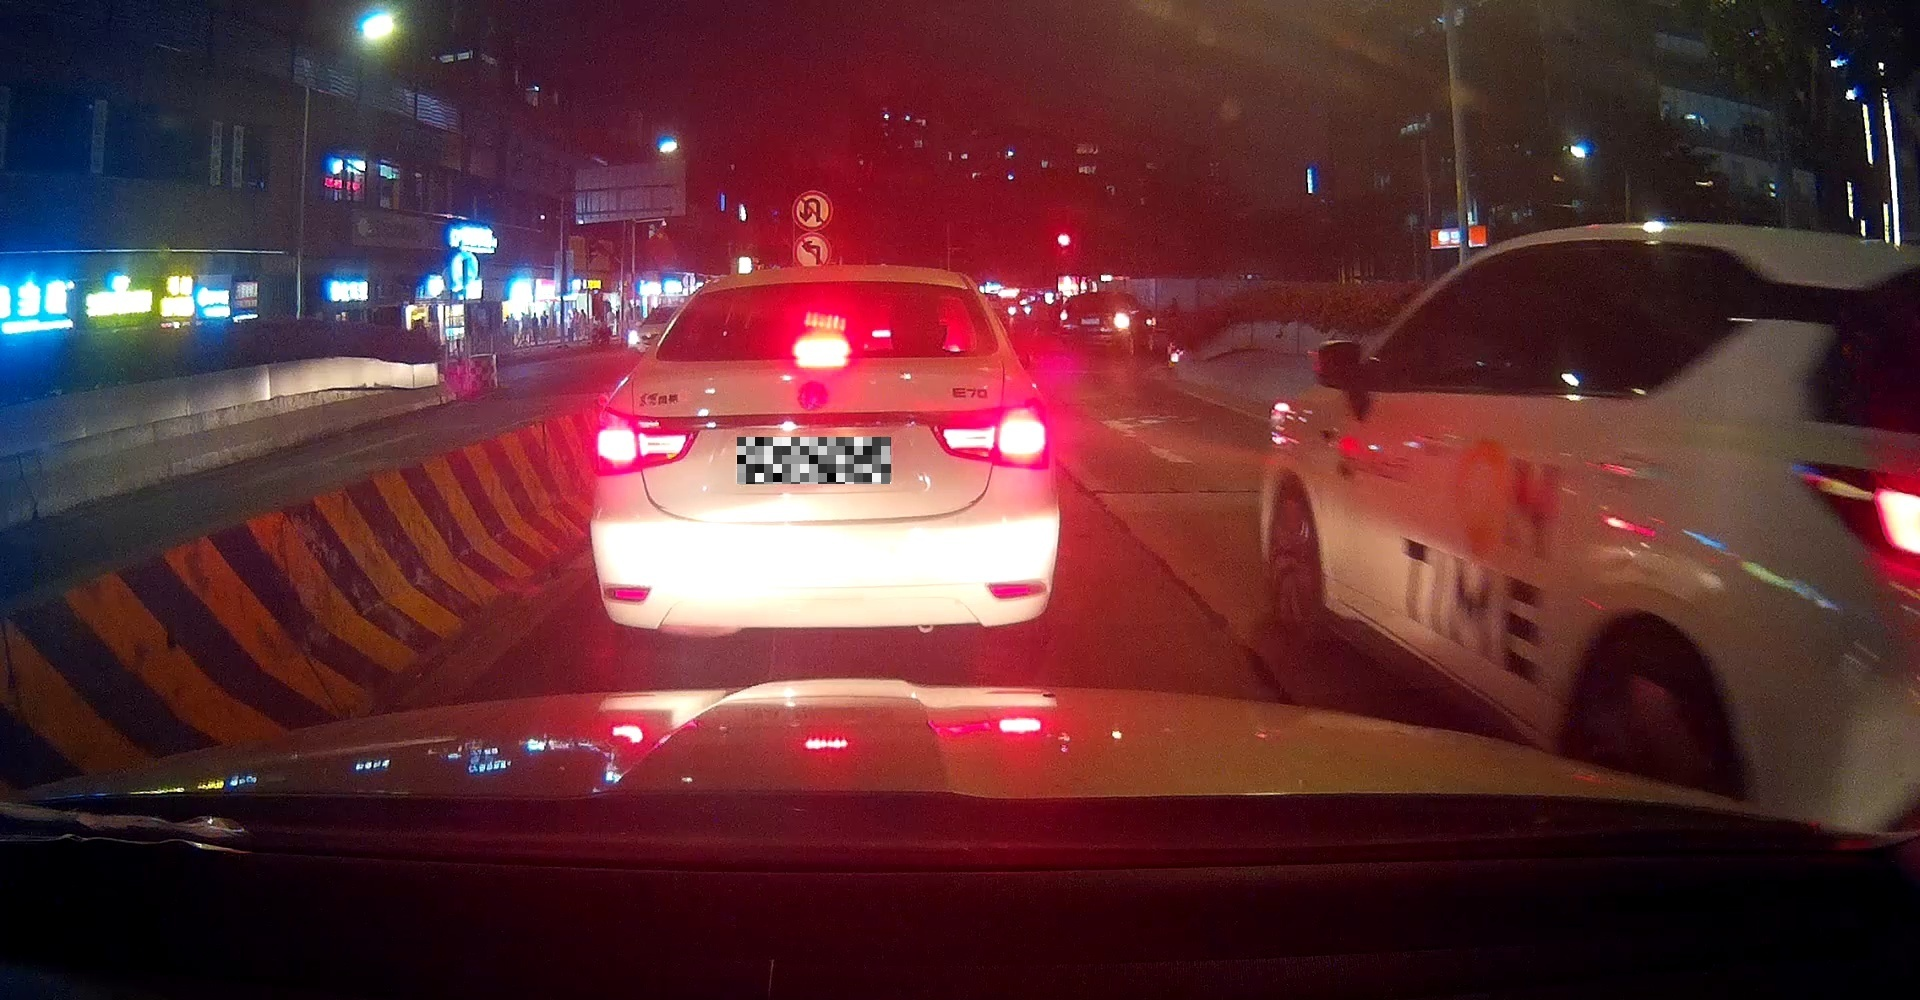L_light: (593, 406, 698, 475)
R_light: (930, 398, 1050, 470)
T_light: (795, 339, 848, 358)
night-brake: (590, 272, 1060, 645)
plate_1: (737, 437, 891, 484)
